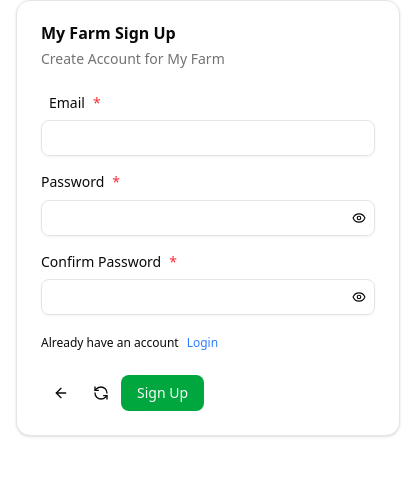
Test case: Reg Form Tests › check password error
Type "x" into the password field labelled "Password *" at {"x": 193, "y": 218}, box [42, 200, 344, 236]
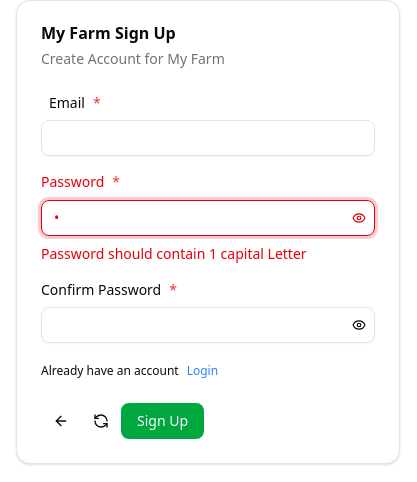
Expected: the text "Password should contain 1 capital Letter" is shown, [41, 244, 307, 262]
Type "T" into the password field labelled "Password *" at {"x": 193, "y": 218}, box [42, 200, 344, 236]
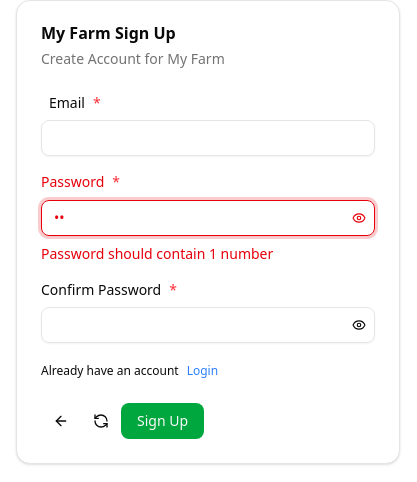
Expected: the text "Password should contain 1 capital Letter" is gone
Expected: the text "Password should contain 1 number" is shown, [41, 244, 273, 262]
Type "Test1" into the password field labelled "Password *" at {"x": 193, "y": 218}, box [42, 200, 344, 236]
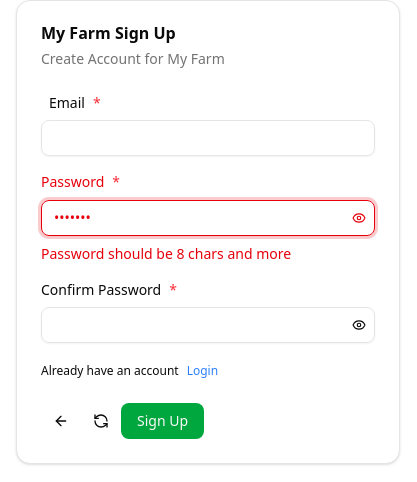
Expected: the text "Password should contain 1 capital Letter" is not shown
Expected: the text "Password should contain 1 number" is gone
Expected: the text "Password should be 8 chars and more" is shown, [41, 244, 291, 262]
Type "Test1test" into the password field labelled "Password *" at {"x": 193, "y": 218}, box [42, 200, 344, 236]
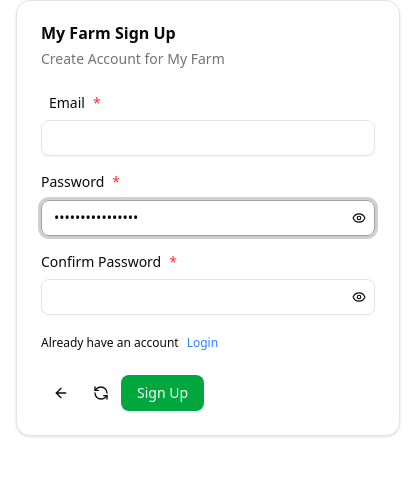
Expected: the text "Password should contain 1 capital Letter" is not shown
Expected: the text "Password should be 8 chars and more" is gone
